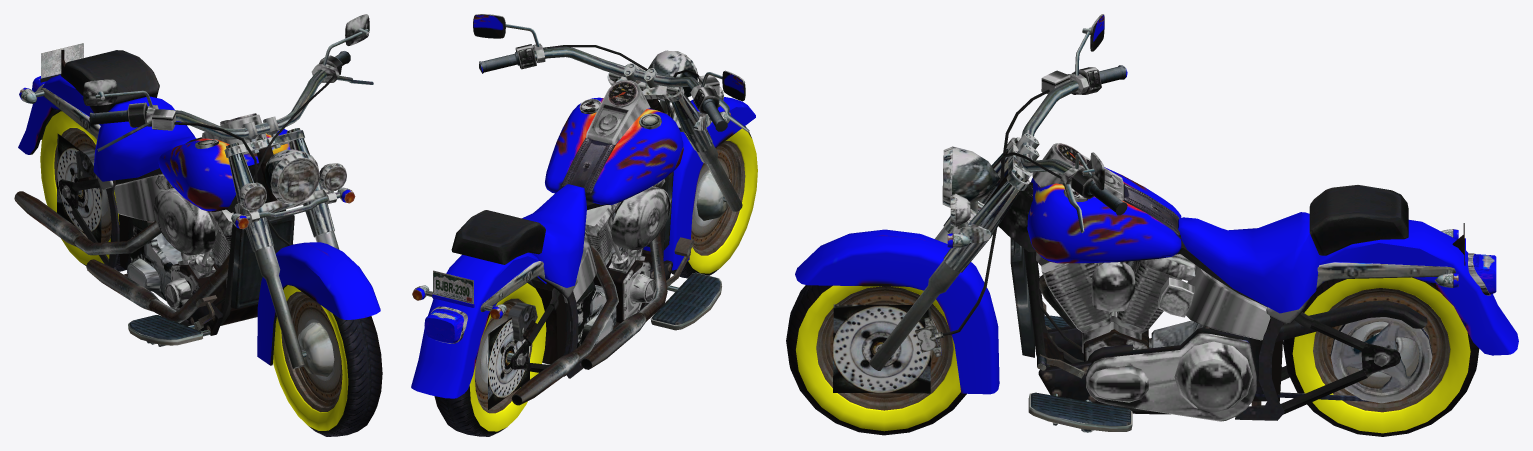
3 renders of one model, left to right at view 1: azimuth 30°, elevation 25°; view 2: azimuth 150°, elevation 25°; view 3: azimuth 270°, elevation 25°, orthographic. The views are drawn at different scales.
Size of the model in its own units: 236 by 245 by 475.
6 materials, 6 textured.
